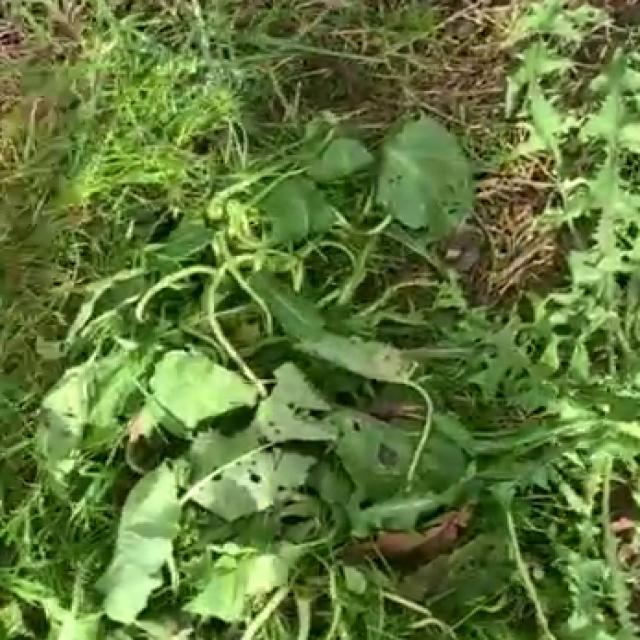organic waste: (98, 155, 489, 537)
